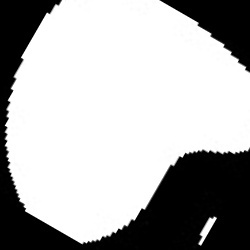crack: (198, 216, 217, 245)
spot: (7, 1, 249, 243)
